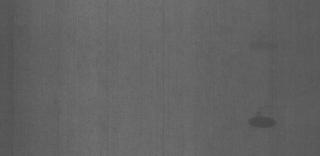oil spot: (246, 108, 280, 134)
